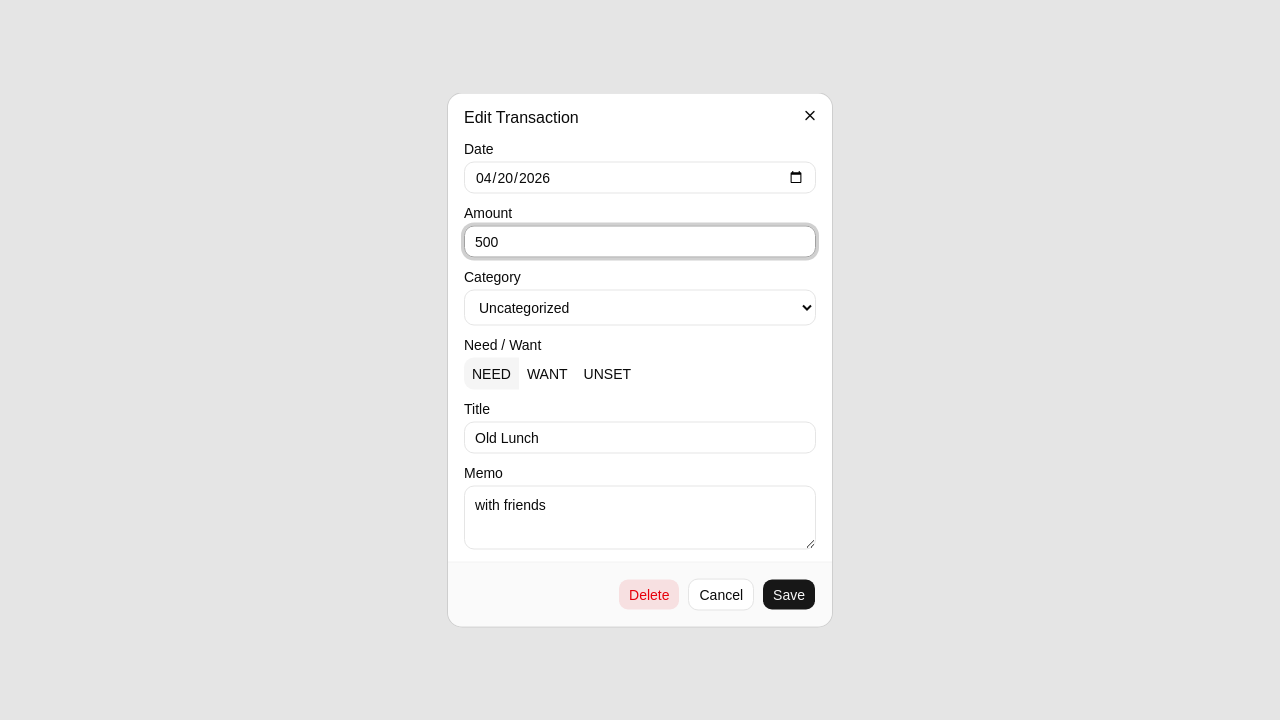
Test case: TransactionFormModal › edit mode › shows an error toast when the DELETE API responds with an error
Click the button "Delete".
click(649, 594)  # box [618,578,680,610]
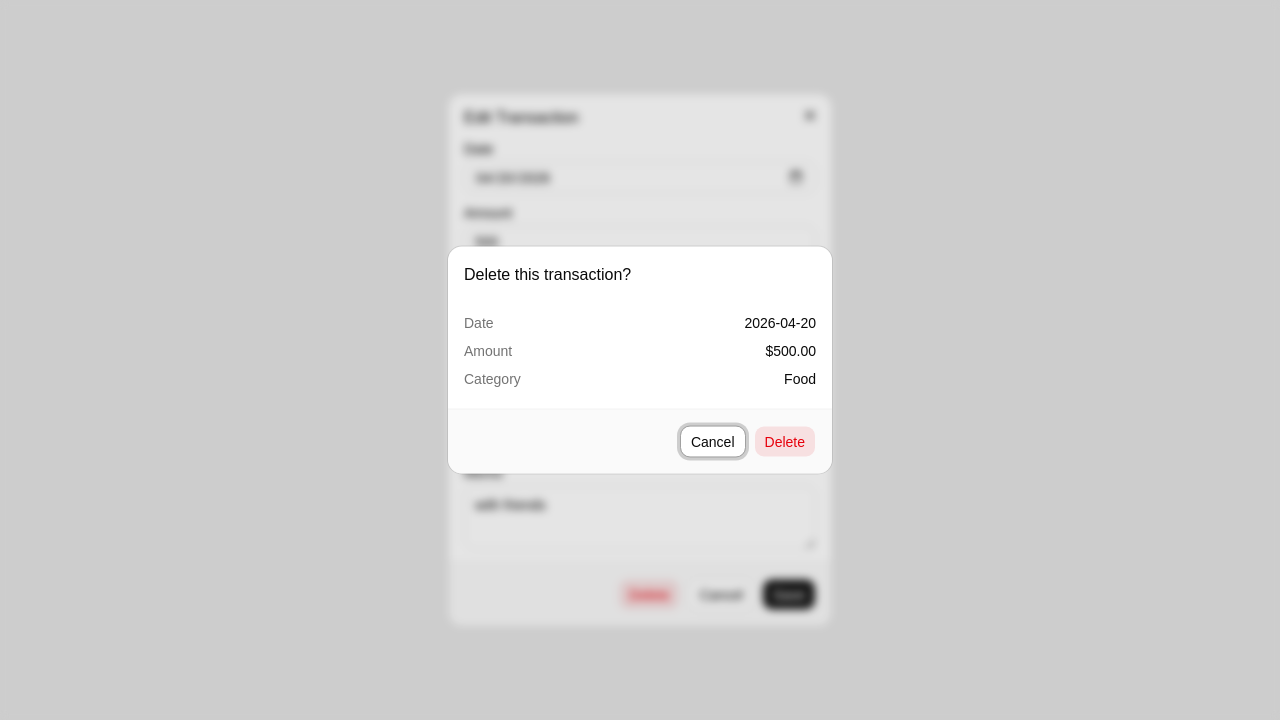
Click the button "Delete".
click(785, 442)  # box [754,426,816,458]
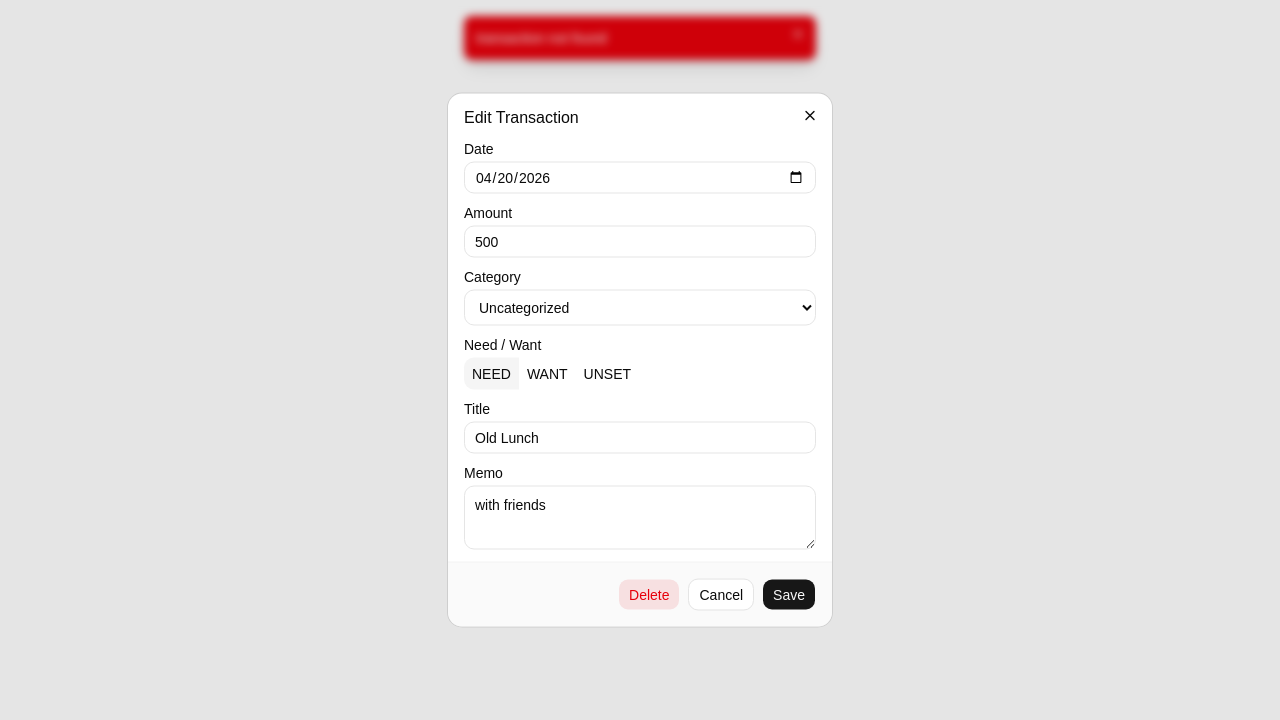
Expected: the text "transaction not found" is shown, [476,30,607,46]
